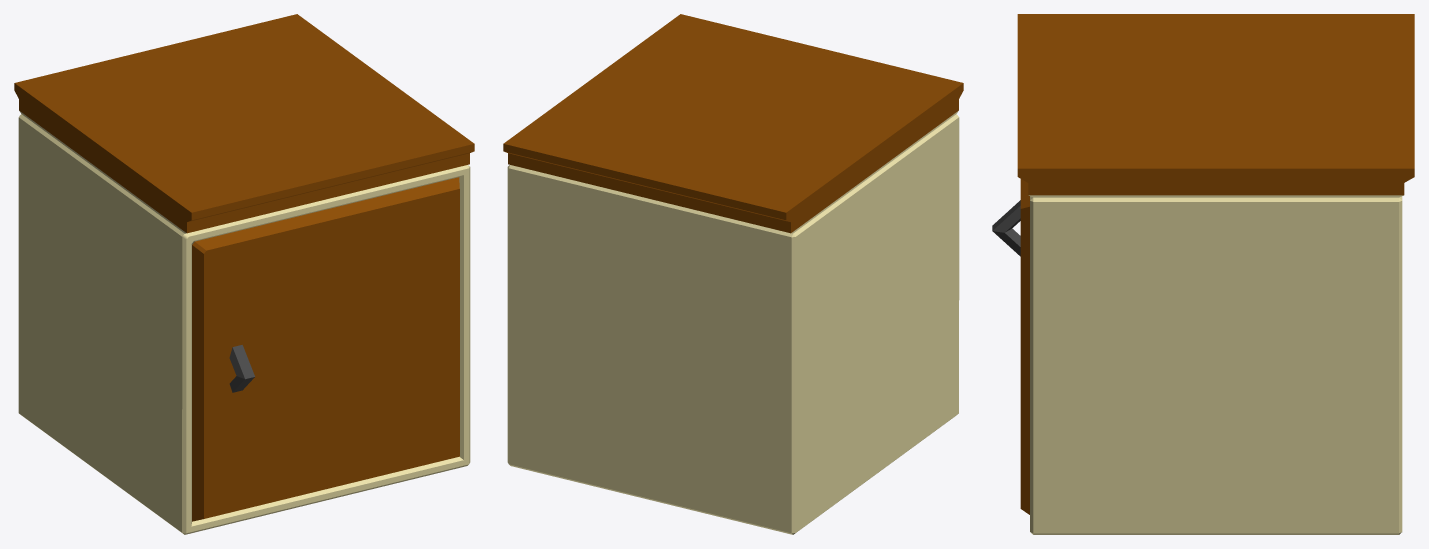
The model's file is FIL_ZenGarden_WoodenShelf_01.fbx.
3 views of the same model, side by side, from view 1: azimuth 30°, elevation 25°; view 2: azimuth 150°, elevation 25°; view 3: azimuth 270°, elevation 25° (orthographic). The views are drawn at different scales.
Parts seen in each view (by area): view 1: pCube3; view 2: pCube3; view 3: pCube3.
Boxes of the visible parts, x1,y1,x2,y2 form: pCube3: [14, 14, 474, 534]; pCube3: [503, 14, 963, 534]; pCube3: [992, 14, 1414, 534].
Bounding box in the file's own units: 8.29 × 9 × 9.41.
